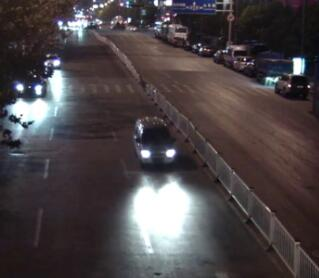bus: (161, 21, 188, 46), (153, 19, 166, 41)
car: (132, 117, 176, 167), (256, 48, 295, 83), (273, 73, 310, 99), (14, 71, 46, 96), (223, 44, 250, 69), (233, 53, 253, 72), (42, 52, 61, 68), (198, 43, 215, 57), (212, 48, 225, 64), (191, 42, 200, 54)
